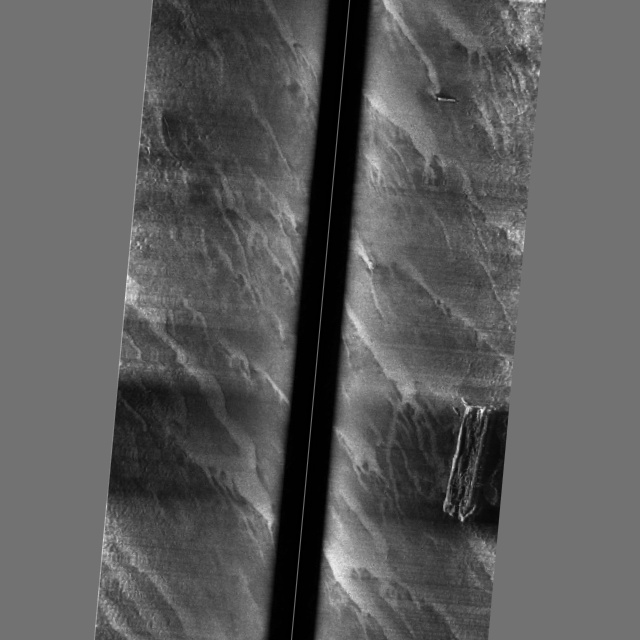Shipwreck: (377, 95, 524, 571)
